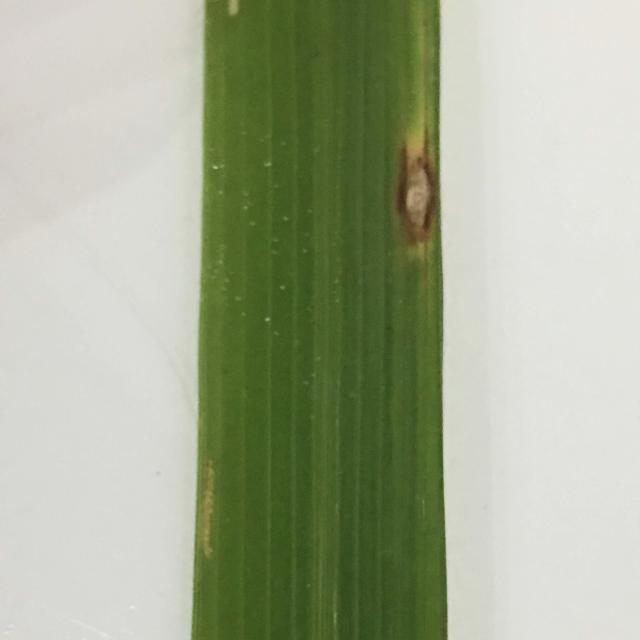Blast: (399, 165, 431, 248)
